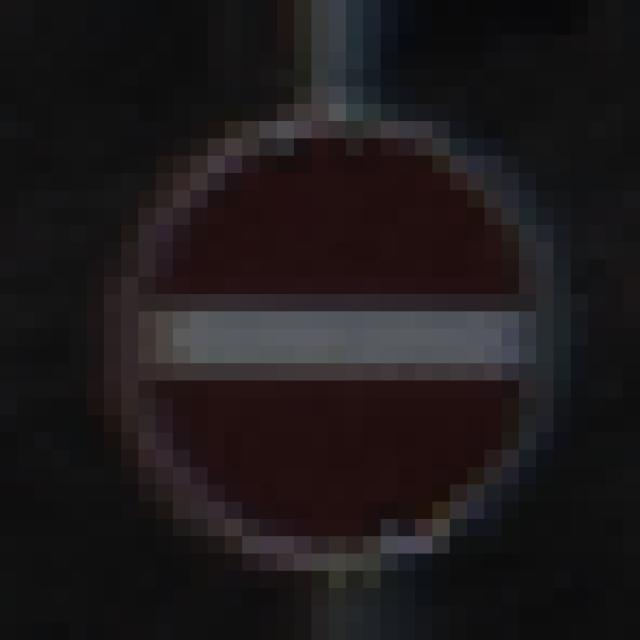No Entry: (88, 88, 555, 555)
